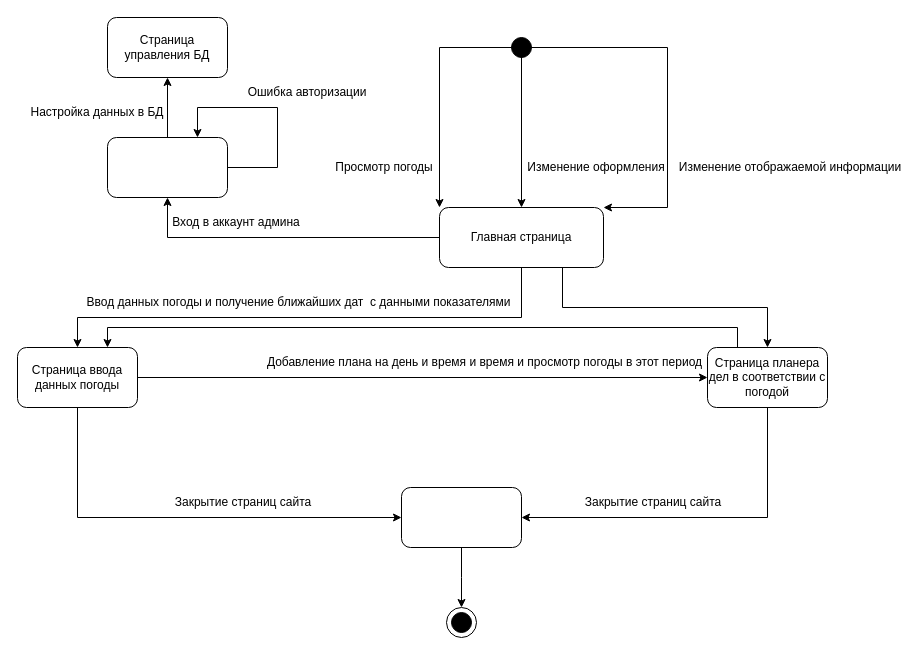
The diagram is 921 pixels wide and 655 high, and some of its shapes have lost their labels. The shapes that lost their labels are listed below. From the top down, each one's centre as x and y in pixels, then its label:
At (167,167): "Авторизация админа".
At (461,517): "Выход с сайта".
